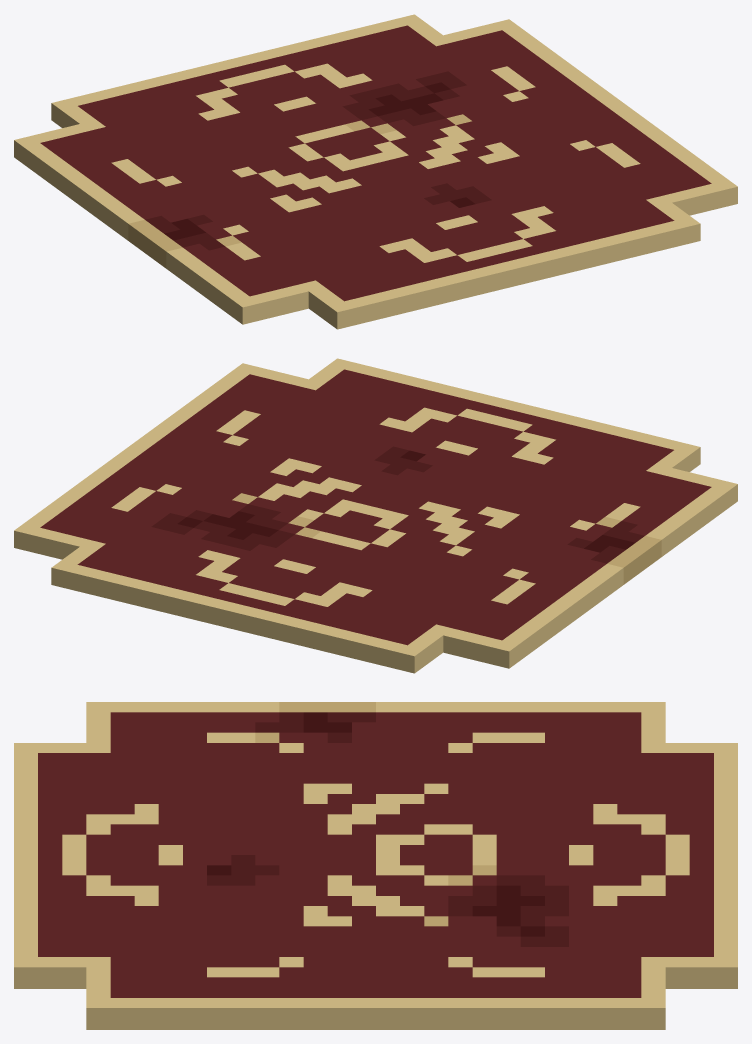
The model's file is RedRug_01.obj.
The picture shows the model from 3 angles, top to bottom: view 1: azimuth 30°, elevation 25°; view 2: azimuth 150°, elevation 25°; view 3: azimuth 270°, elevation 25°; orthographic projection. The views are drawn at different scales.
Visible parts, largest first — view 1: RedRug_01.001; view 2: RedRug_01.001; view 3: RedRug_01.001.
Part boxes in pixels (x1,y1,x2,y2): RedRug_01.001: [14, 14, 737, 329]; RedRug_01.001: [14, 358, 737, 673]; RedRug_01.001: [14, 702, 737, 1029].
Bounding box in the file's own units: 3 × 0.1 × 3.
